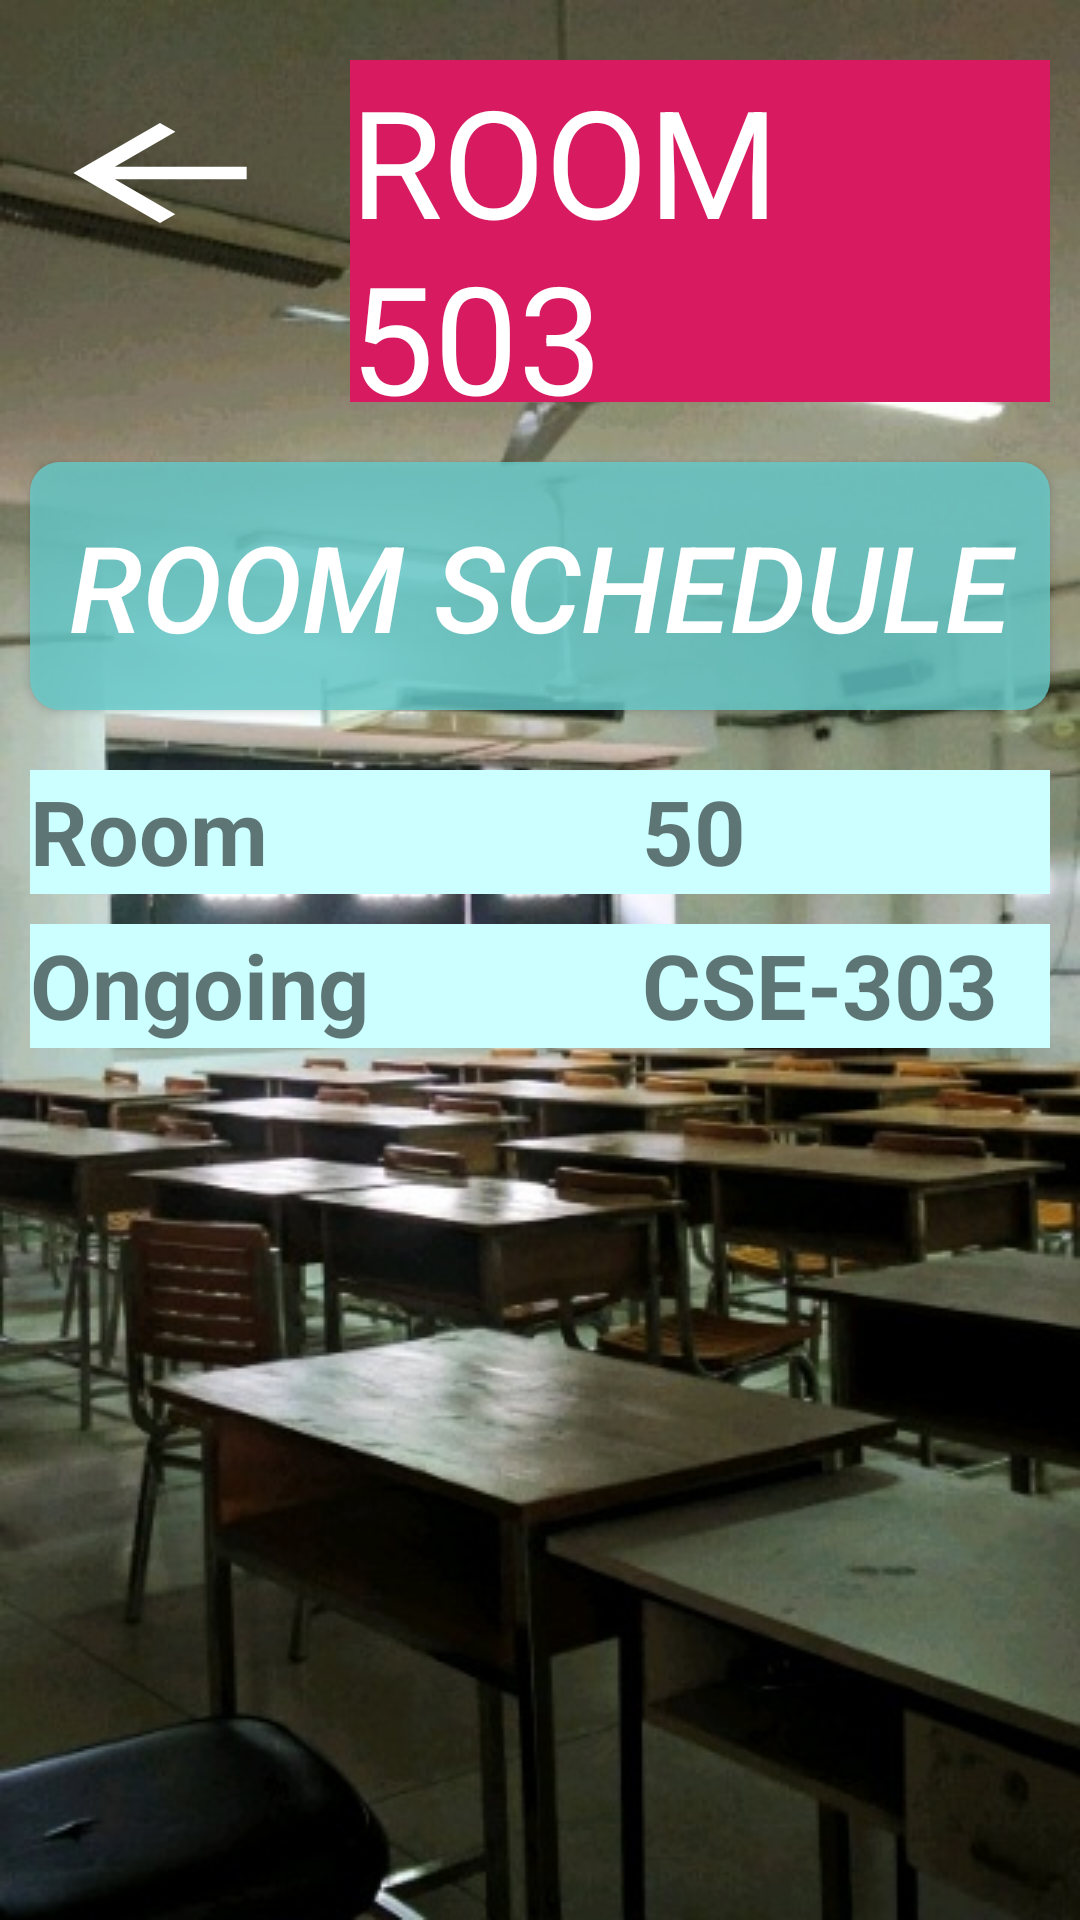

Where icons sit on this 1080px×1920px app screen, as bbox=(x1, y1, x2, y2):
arrow: bbox=(30, 123, 290, 248)
